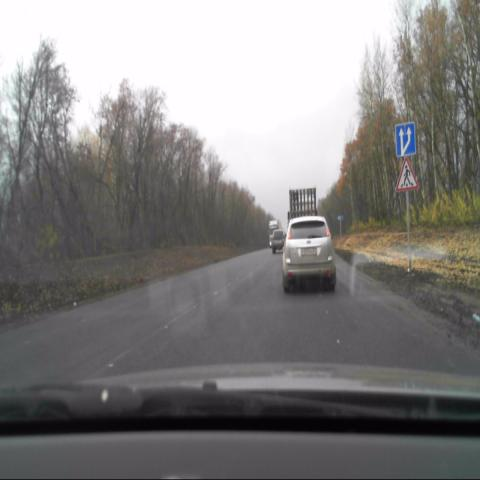1_22: (396, 158, 418, 193)
5_15_3: (393, 119, 416, 156)
